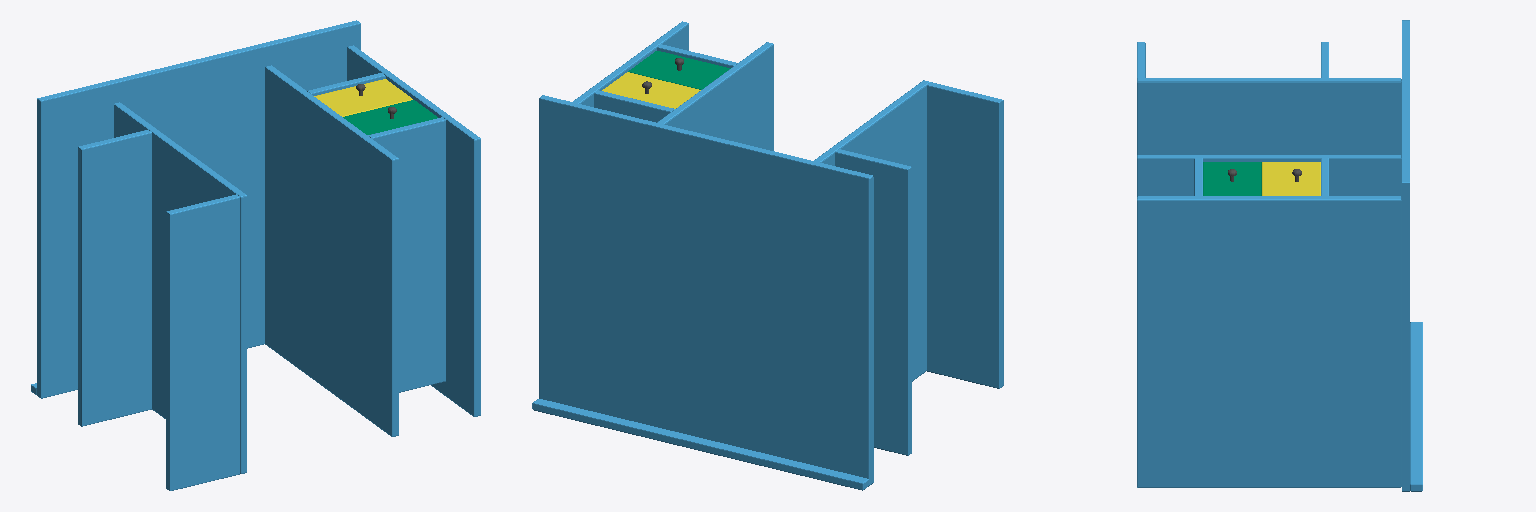
robot.urdf — 273:
<robot name="273">


	<link name="0:virtual">
		<visual>
			<origin xyz="0.0 0.0 0.0" rpy="0 0 0"/>
			<geometry>
				<cylinder length="0" radius="0"/>
			</geometry>
		</visual>
	</link>


	<link name="1:static">
		<visual>
			<origin xyz="-0.0 -0.0 -0.0" rpy="0 0 0"/>
			<geometry>
				<mesh filename="../raw_data/273/part_meshes/1.dae" />
			</geometry>
		</visual>
	</link>


	<link name="2:drawer 1">
		<visual>
			<origin xyz="-0.3038019984960556 -0.2228744924068451 -0.00023336708545684814" rpy="0 0 0"/>
			<geometry>
				<mesh filename="../raw_data/273/part_meshes/2.dae" />
			</geometry>
		</visual>
	</link>


	<link name="3:drawer 2">
		<visual>
			<origin xyz="-0.3038019984960556 -0.3617435097694397 -0.00023311376571655273" rpy="0 0 0"/>
			<geometry>
				<mesh filename="../raw_data/273/part_meshes/3.dae" />
			</geometry>
		</visual>
	</link>


	<joint name="0:virtual::1:static" type="fixed">
		<parent link="0:virtual"/>
		<child link="1:static"/>
		<origin xyz="0.0 0.0 0.0" rpy="0 0 0"/>
	</joint>


	<joint name="0:virtual::2:drawer 1_translation" type="prismatic">
		<parent link="0:virtual"/>
		<child link="2:drawer 1"/>
		<origin xyz="0.3038019984960556 0.2228744924068451 0.00023336708545684814" rpy="0 0 0"/>
		<limit lower="-0.0001454976797104" upper="0.64685450232029" effort="10" velocity="3"/>
		<axis xyz="0.0 0.0 1.0"/>
	</joint>


	<joint name="0:virtual::3:drawer 2_translation" type="prismatic">
		<parent link="0:virtual"/>
		<child link="3:drawer 2"/>
		<origin xyz="0.3038019984960556 0.3617435097694397 0.00023311376571655273" rpy="0 0 0"/>
		<limit lower="-0.0001454976797104" upper="0.64685450232029" effort="10" velocity="3"/>
		<axis xyz="0.0 0.0 1.0"/>
	</joint>


</robot>

--- Facts derived from the render (not from the file) ---
3 views of the same robot in one strip: view 1: azimuth 30°, elevation 25°; view 2: azimuth 150°, elevation 25°; view 3: azimuth 270°, elevation 25° (orthographic).
Robot: 273 — 4 links, 3 joints (2 prismatic, 1 fixed); root link 0:virtual; default pose: all joints at 0.
Links seen in each view (by area): view 1: 1:static, 3:drawer 2, 2:drawer 1; view 2: 1:static, 2:drawer 1, 3:drawer 2; view 3: 1:static, 2:drawer 1, 3:drawer 2.
Boxes of the visible links, left/top/right/bottom form: 1:static: left=31, top=20, right=480, bottom=490; 3:drawer 2: left=314, top=79, right=412, bottom=116; 2:drawer 1: left=343, top=100, right=437, bottom=134; 1:static: left=532, top=21, right=1003, bottom=490; 2:drawer 1: left=628, top=51, right=730, bottom=89; 3:drawer 2: left=602, top=72, right=700, bottom=108; 1:static: left=1137, top=20, right=1422, bottom=491; 2:drawer 1: left=1203, top=162, right=1261, bottom=195; 3:drawer 2: left=1262, top=162, right=1320, bottom=195.
Size in the robot's own frame: 0.9 by 0.67 by 0.8 metres.
Meshes: 3 distinct files referenced, 3 mesh visuals loaded (3 Collada DAE).